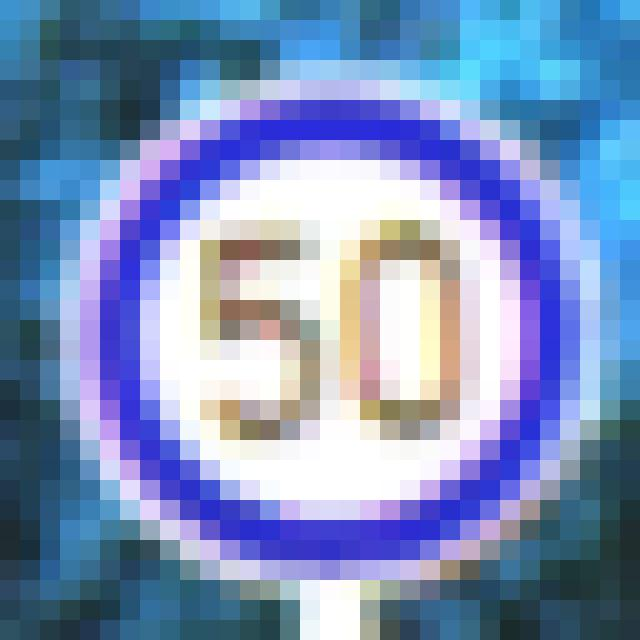SPEED LIMIT 50: (100, 110, 550, 556)
